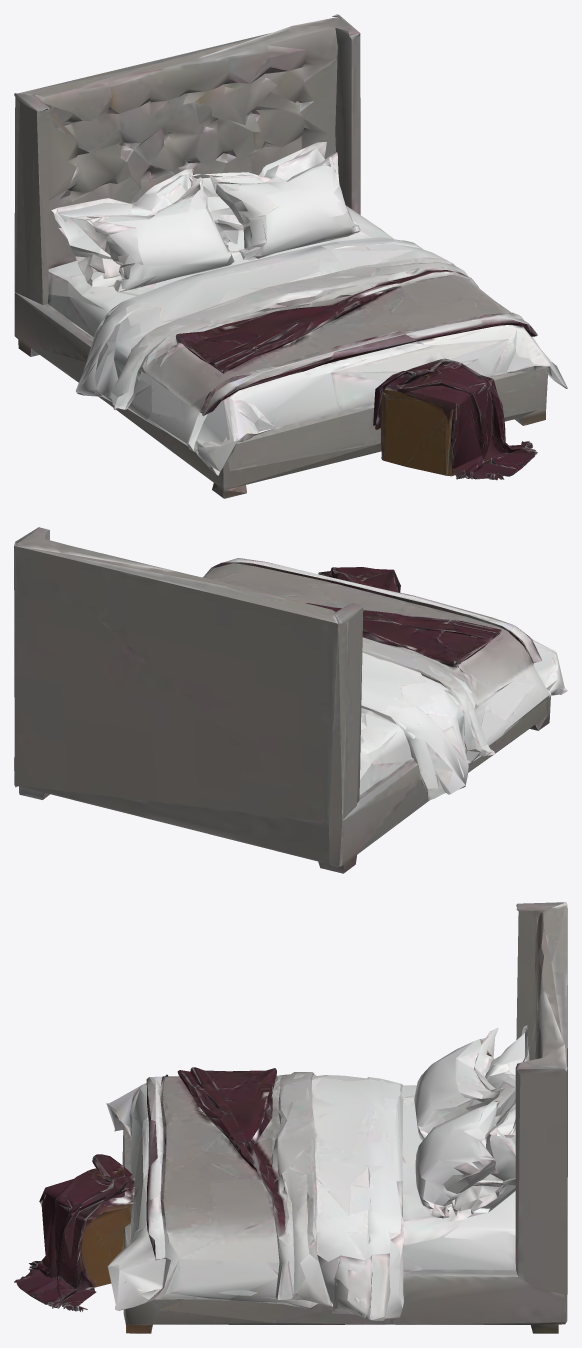
The model's file is king-bed-v1.glb.
The picture shows the model from 3 angles, top to bottom: view 1: azimuth 30°, elevation 25°; view 2: azimuth 150°, elevation 25°; view 3: azimuth 270°, elevation 25°; orthographic projection. The views are drawn at different scales.
Size of the model in its own units: 2.03 by 1.28 by 2.4.
1 material, 1 textured.
